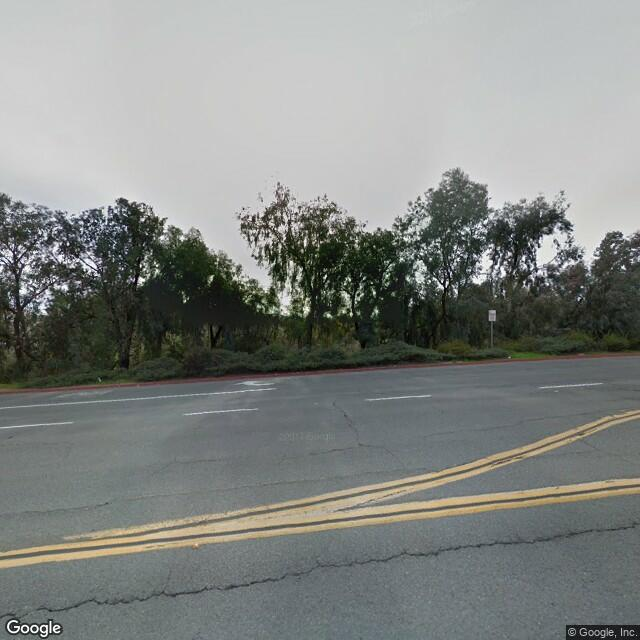litter: (504, 351, 520, 367)
